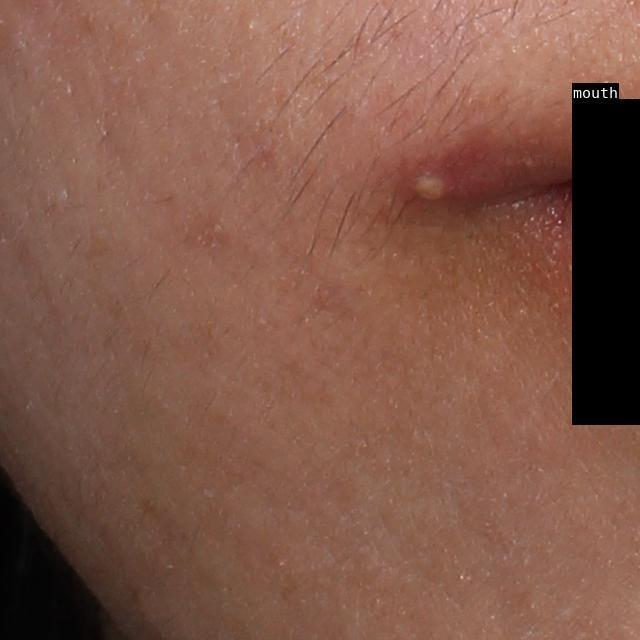comedo: (244, 21, 258, 35)
pustule: (409, 162, 473, 215)
